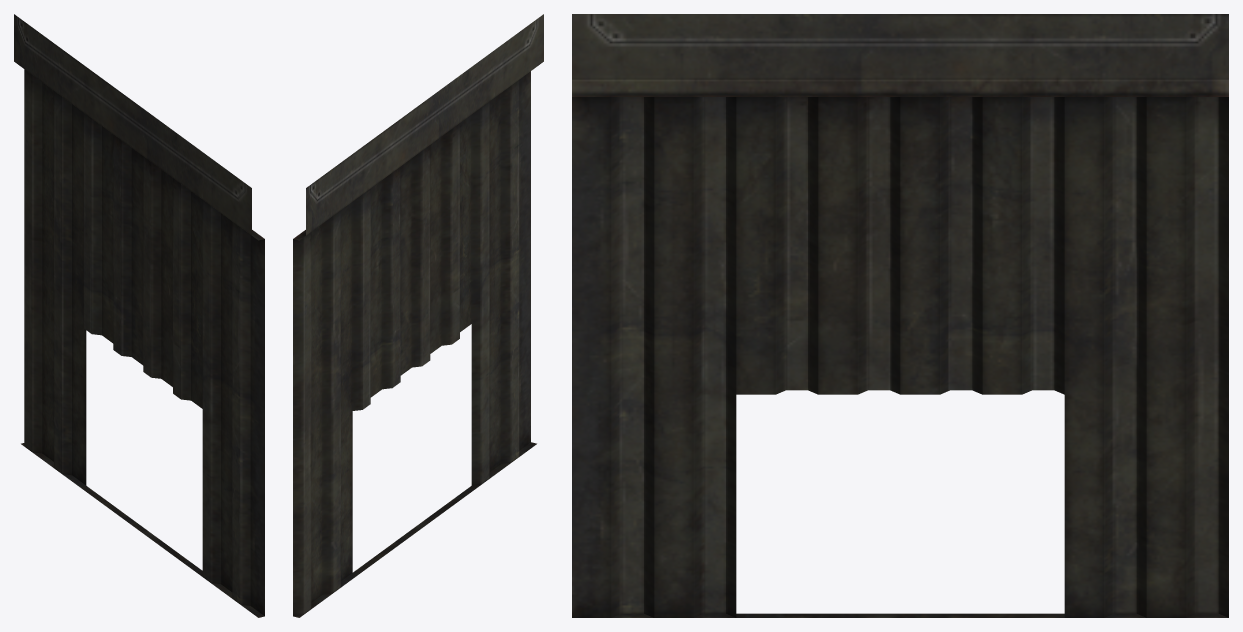
The model's file is pplant_bulkhead_hatch_bottom.dae.
The picture shows the model from 3 angles, left to right: view 1: azimuth 30°, elevation 25°; view 2: azimuth 150°, elevation 25°; view 3: azimuth 270°, elevation 25°; orthographic projection. The views are drawn at different scales.
Visible parts, largest first — view 1: bulkhead_hatch_bottom; view 2: bulkhead_hatch_bottom; view 3: bulkhead_hatch_bottom.
Part boxes in pixels (<box>): bulkhead_hatch_bottom: <box>14,14,264,617</box>; bulkhead_hatch_bottom: <box>293,14,543,617</box>; bulkhead_hatch_bottom: <box>572,14,1228,617</box>.
Size of the model in its own units: 0.125 by 4 by 4.
